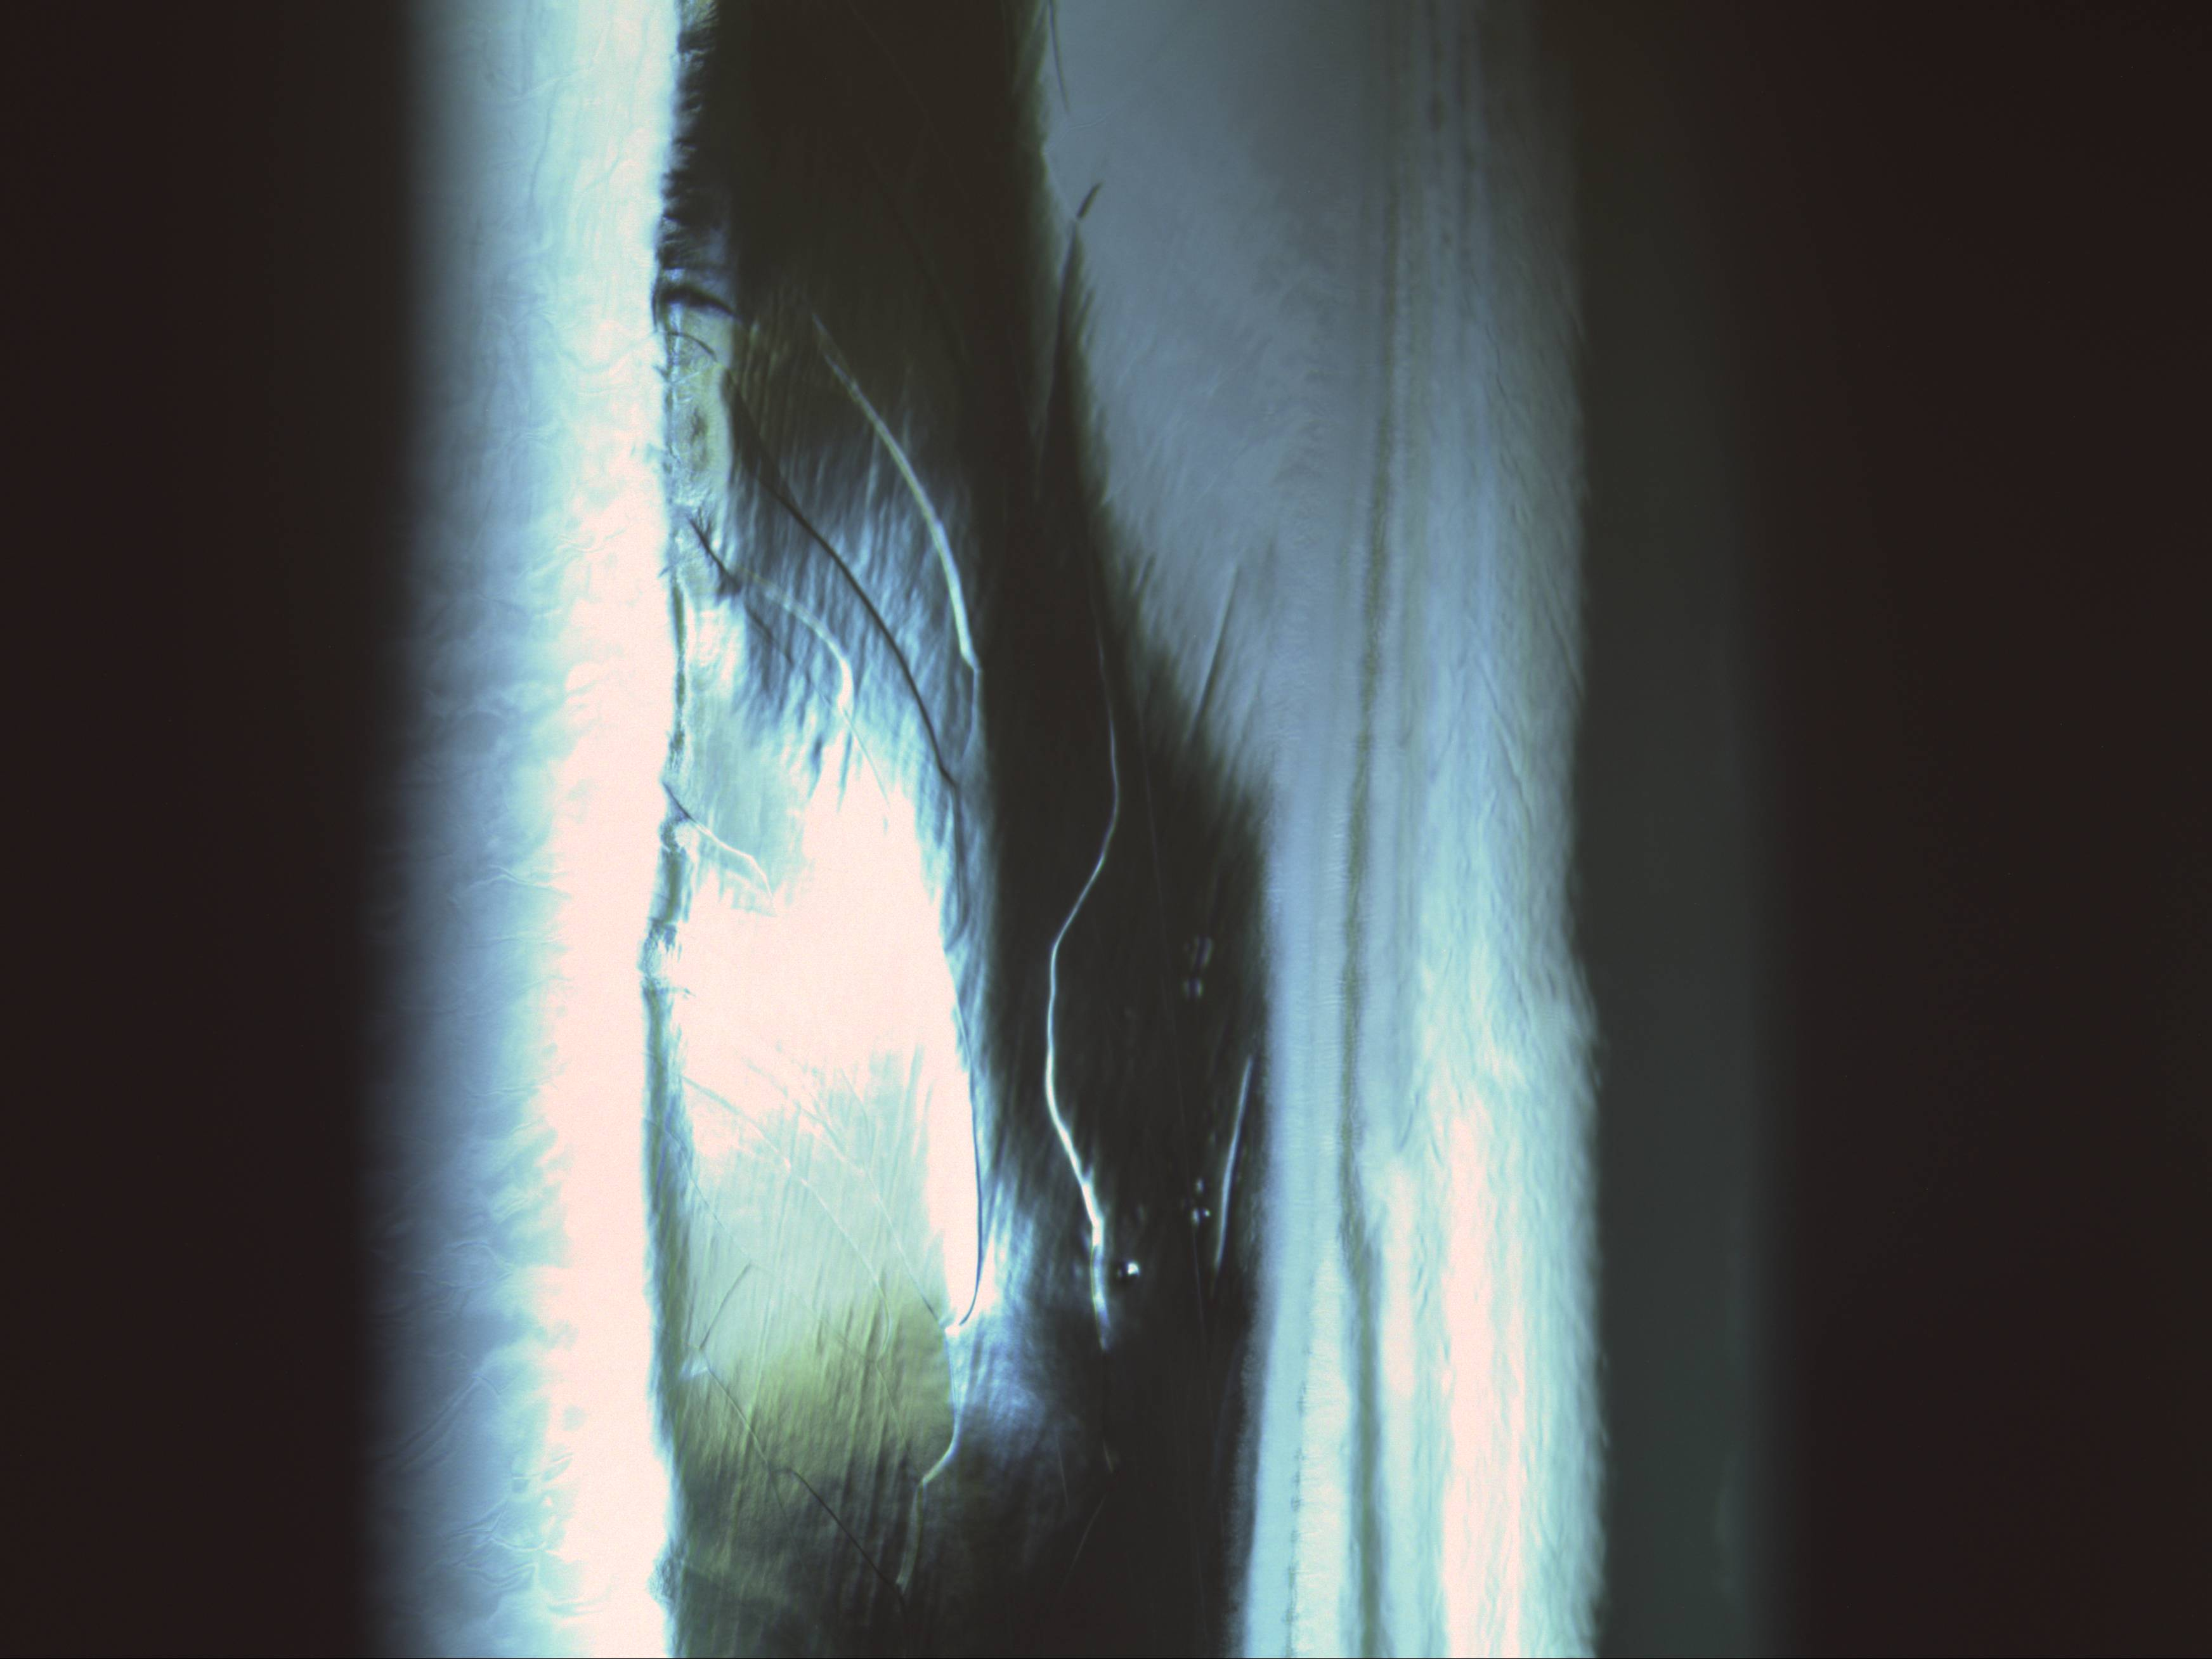defect: (1186, 1202, 1216, 1232), (1115, 1255, 1141, 1283)
